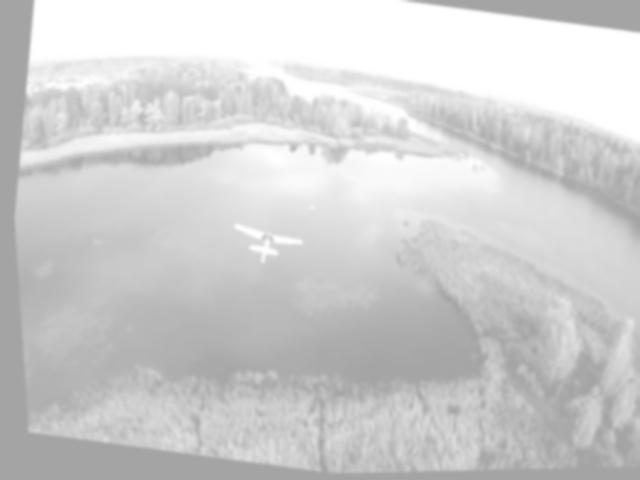hedef: (221, 219, 304, 276)
